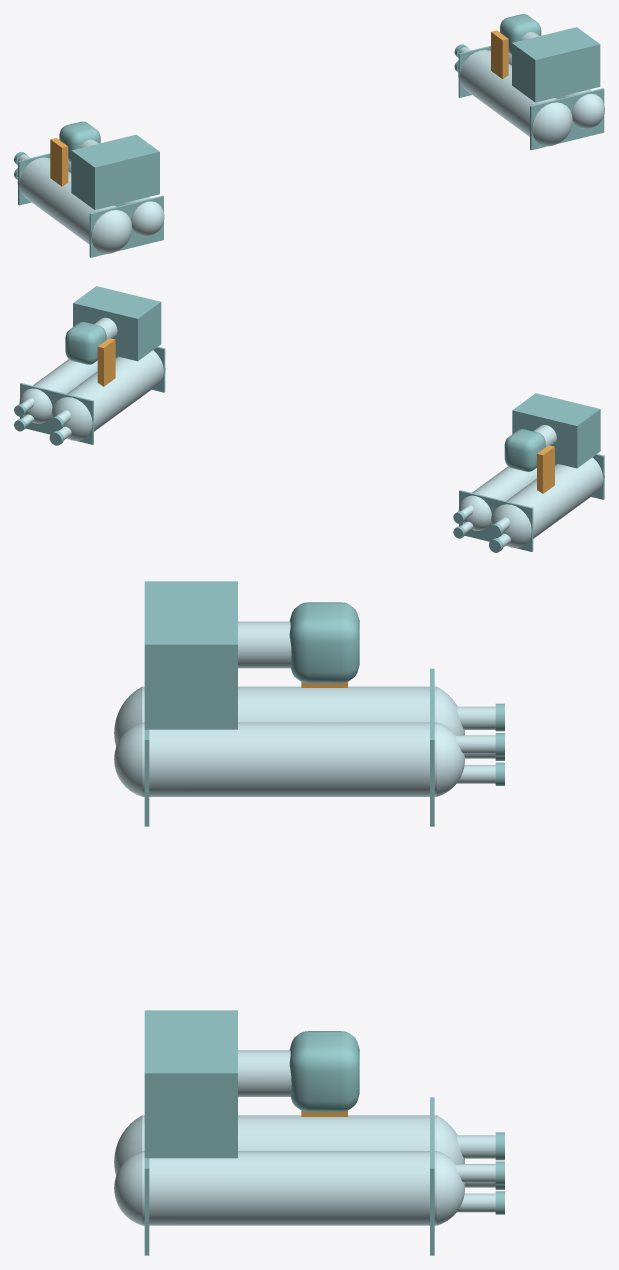
File: cooler_set.gltf
3 renders of one model, top to bottom at view 1: azimuth 30°, elevation 25°; view 2: azimuth 150°, elevation 25°; view 3: azimuth 270°, elevation 25°, orthographic. The views are drawn at different scales.
Parts seen in each view (by area): view 1: Box456, Box001, OilTank006, OilTank002, Box457, Box002, OilTank005, OilTank001, ChamferBox001, ChamferBox002, Box460, Box006 (+2 smaller); view 2: OilTank002, OilTank006, Box001, Box456, OilTank001, OilTank005, ChamferBox001, ChamferBox002, Box458, Box003, Box006, Box460; view 3: OilTank001, OilTank005, Box456, Box001, OilTank006, OilTank002, ChamferBox002, ChamferBox001, Cylinder553, Cylinder001, Cylinder558, Cylinder006.
Boxes of the visible parts, x1,y1,x2,y2 form: Box456: (71,134,159,209); Box001: (512,27,600,102); OilTank006: (17,157,132,253); OilTank002: (458,50,572,146); Box457: (89,195,163,257); Box002: (530,88,604,150); OilTank005: (68,160,164,236); OilTank001: (508,53,604,128); ChamferBox001: (500,14,541,54); ChamferBox002: (59,121,100,161); Box460: (50,138,68,186); Box006: (491,30,508,78); OilTank002: (51,350,165,440); OilTank006: (490,457,604,547); Box001: (73,286,161,361); Box456: (512,393,600,468); OilTank001: (19,359,97,423); OilTank005: (458,466,536,530); ChamferBox001: (65,322,106,364); ChamferBox002: (504,429,545,471); Box458: (459,490,533,551); Box003: (20,383,93,444); Box006: (97,338,115,386); Box460: (537,445,554,493); OilTank001: (114,1151,464,1225); OilTank005: (114,722,464,796); Box456: (144,581,237,729); Box001: (144,1010,237,1158); OilTank006: (114,686,464,746); OilTank002: (114,1115,464,1175); ChamferBox002: (289,602,359,683); ChamferBox001: (289,1031,359,1111); Cylinder553: (238,621,291,668); Cylinder001: (238,1050,291,1096); Cylinder558: (457,706,495,729); Cylinder006: (457,1135,495,1158).
Bounding box in the file's own units: 71.01 × 11.8 × 23.46.
3 materials, 3 textured.
